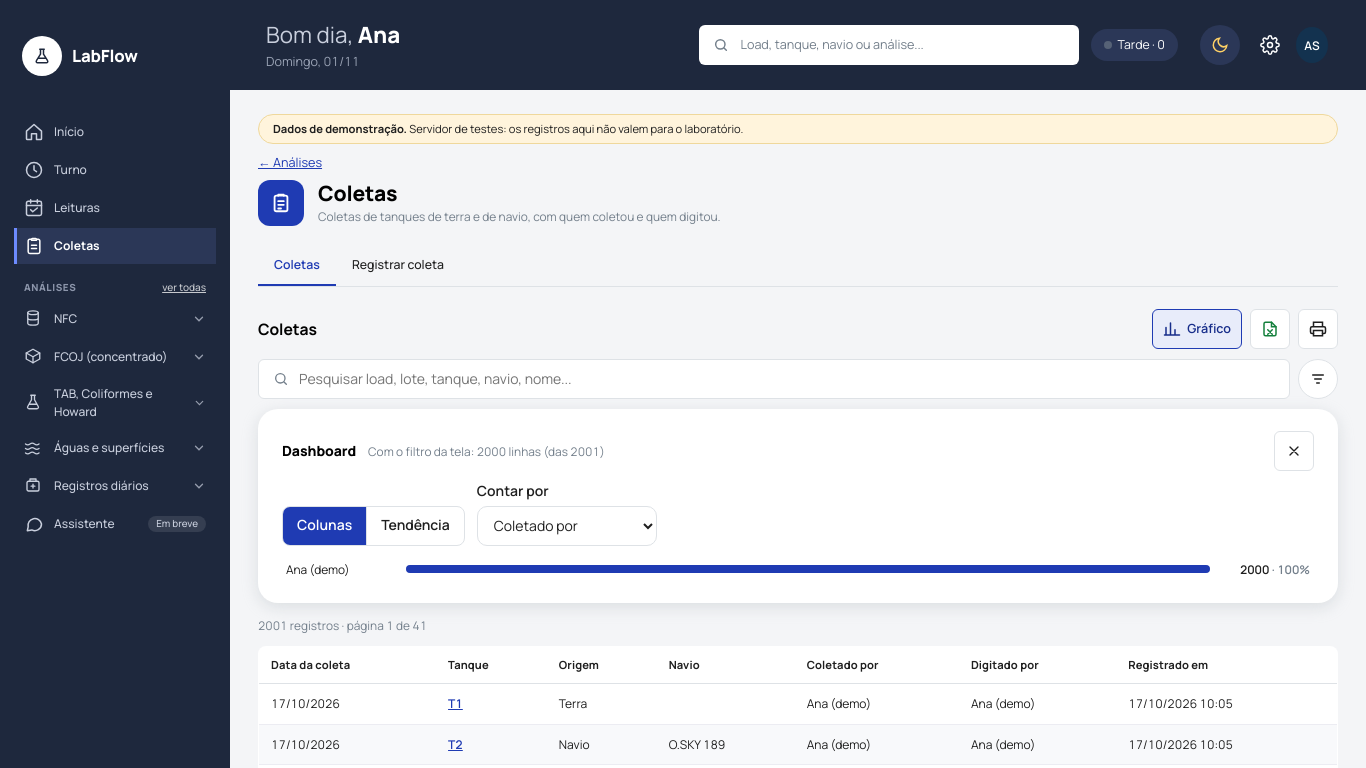
Scenario: Páginas: Coletas e Recebimento (APP-015) › muitas linhas: Imprimir pede filtro ou Excel
The image size is (1366, 768).
Check: the text "2001 registros · página 1 de 41" is shown, box [258,617,427,634]
Click the button named "Imprimir" at coordinates (1318, 329), box [1298,309,1338,349]
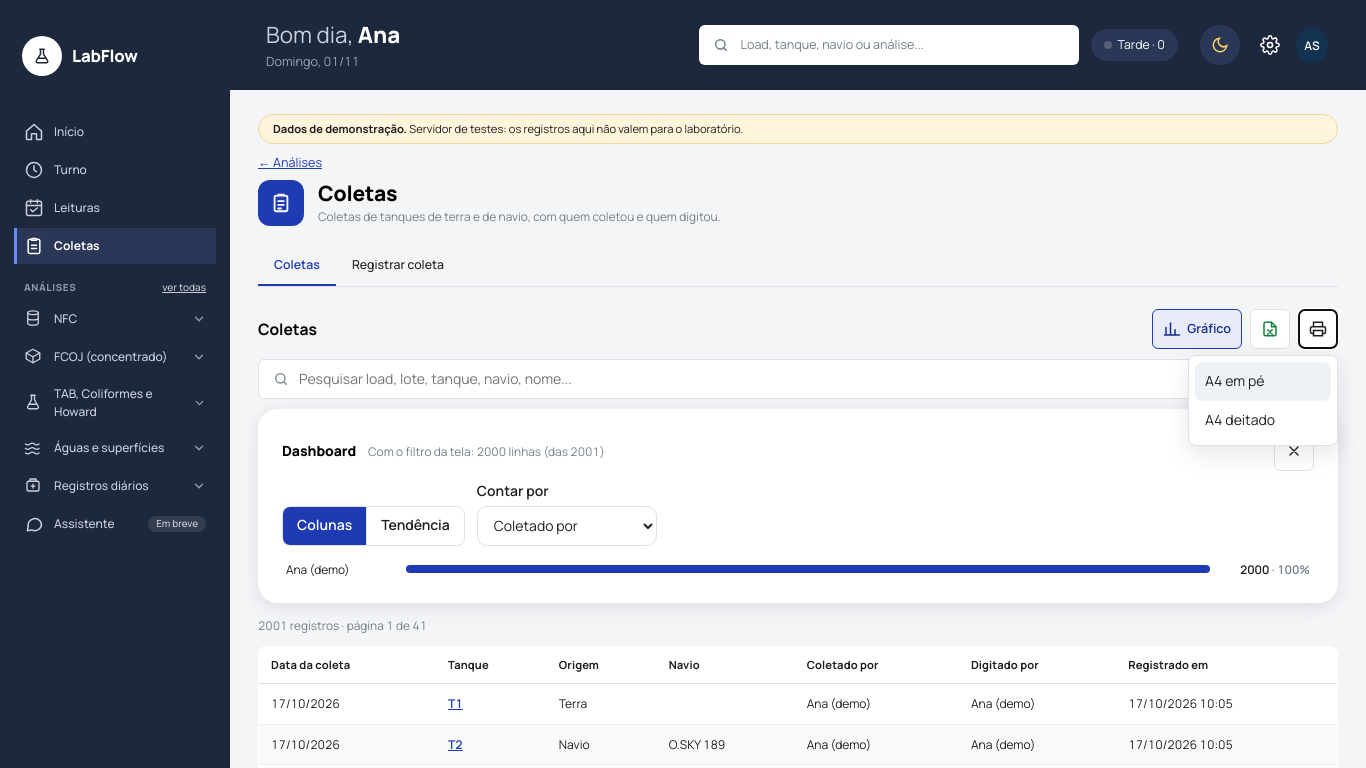
Click the button "A4 em pé" at coordinates (1263, 381), box [1195,362,1331,401]
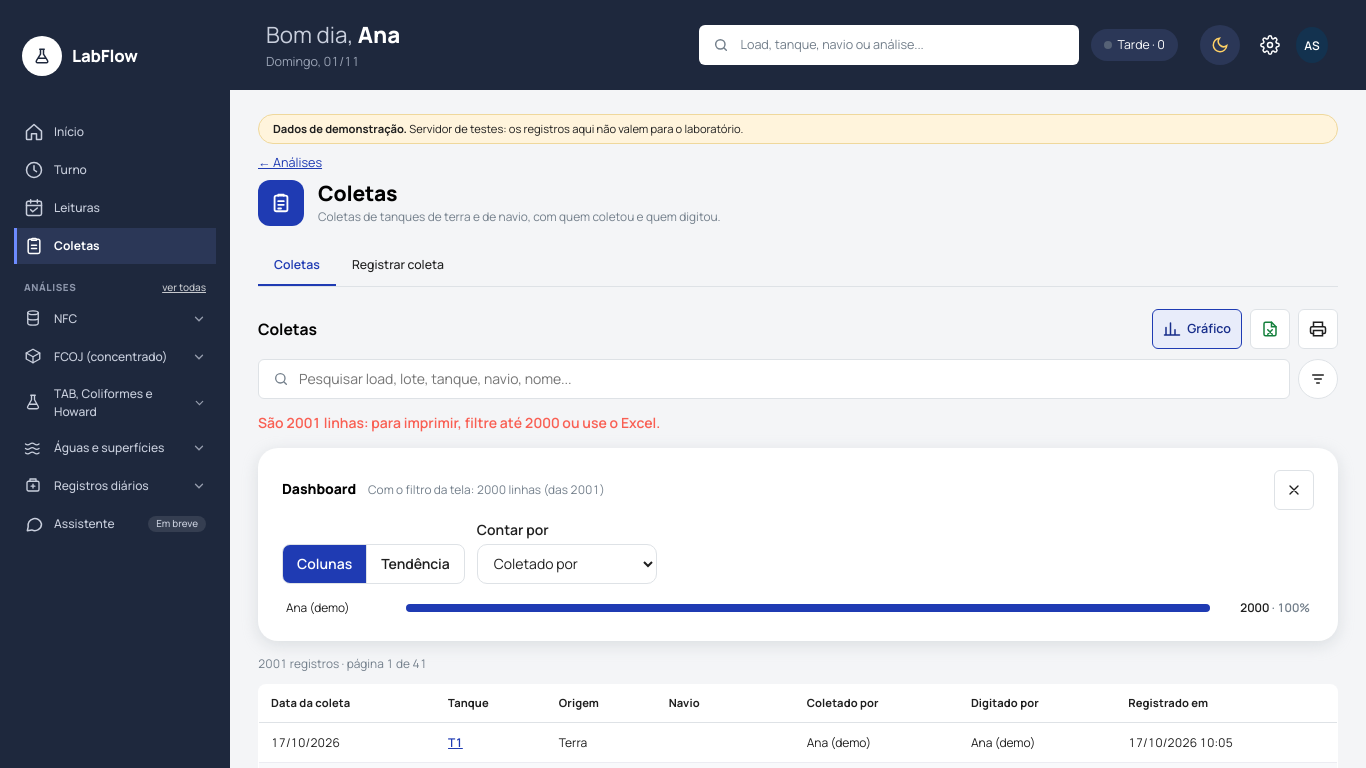
Check: the message shows "use o Excel", box [258,413,660,432]
